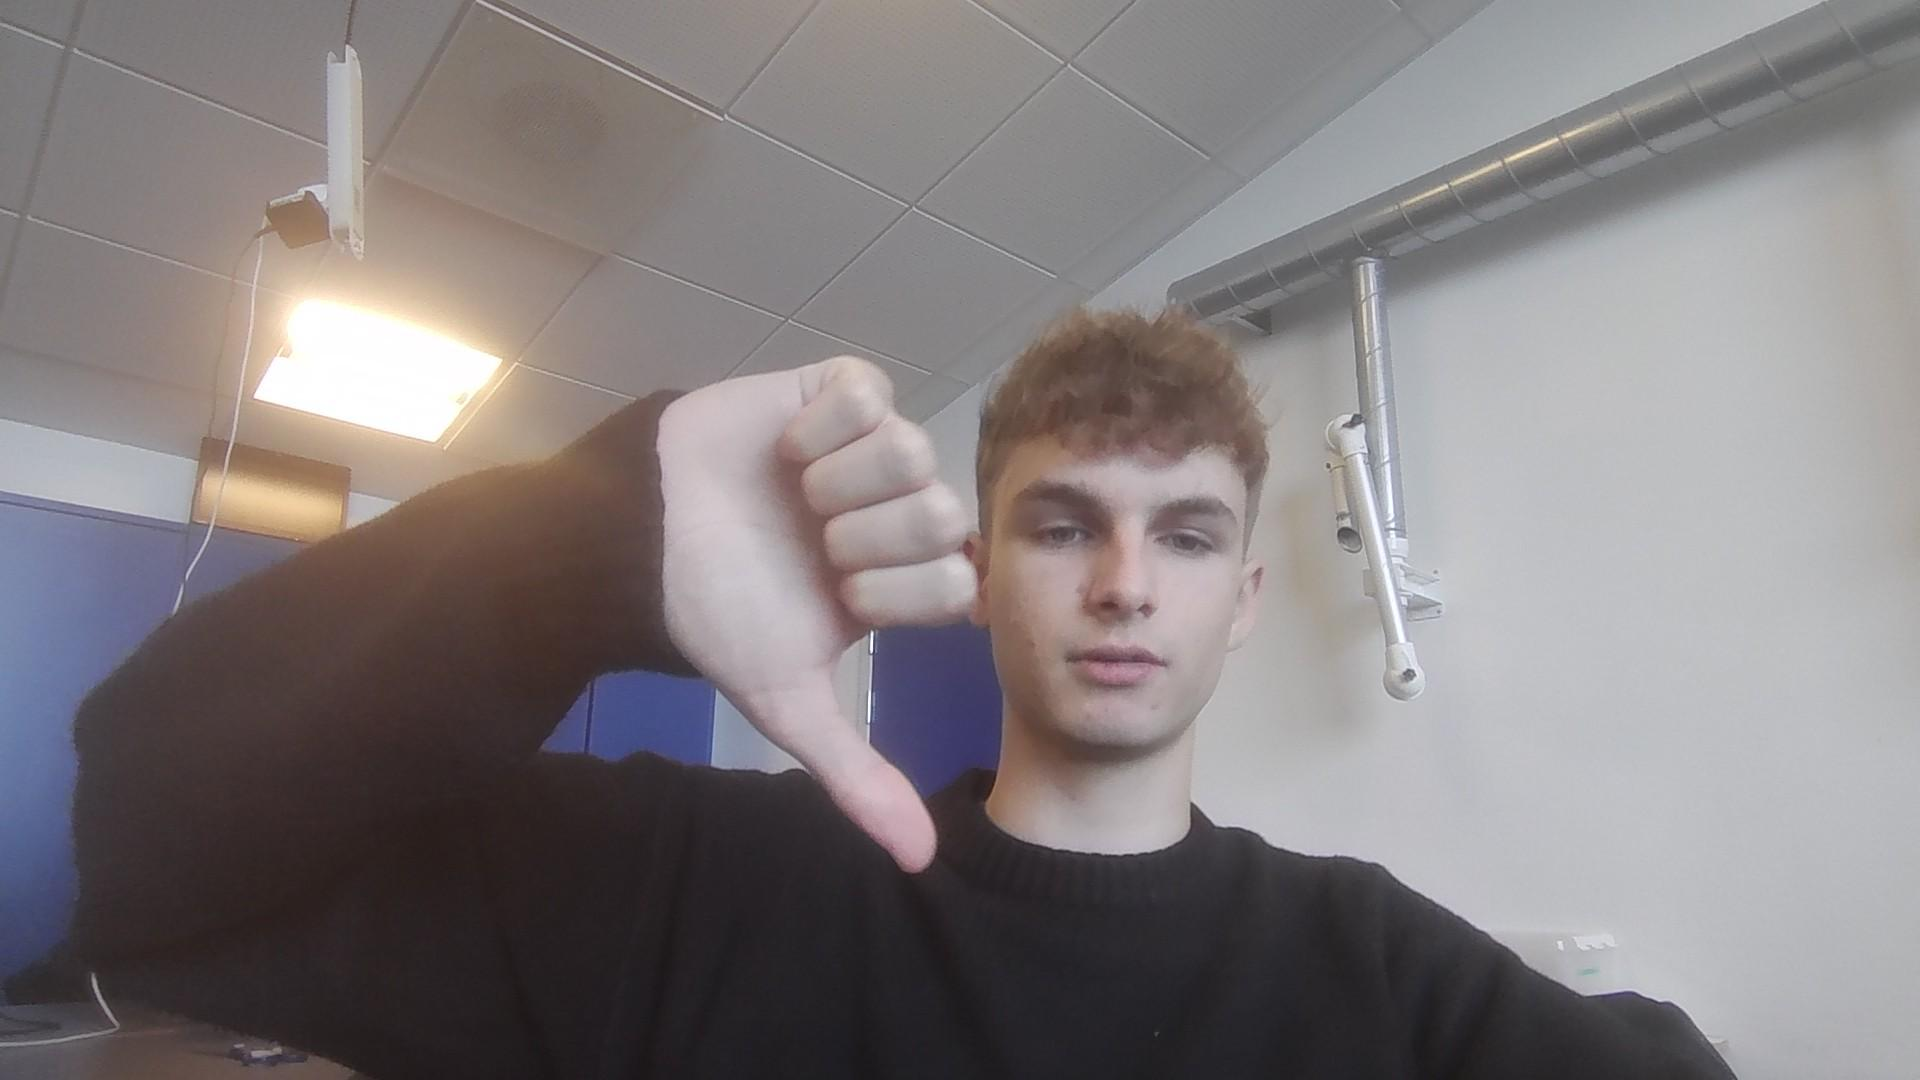thumbs down: (595, 356, 980, 873)
